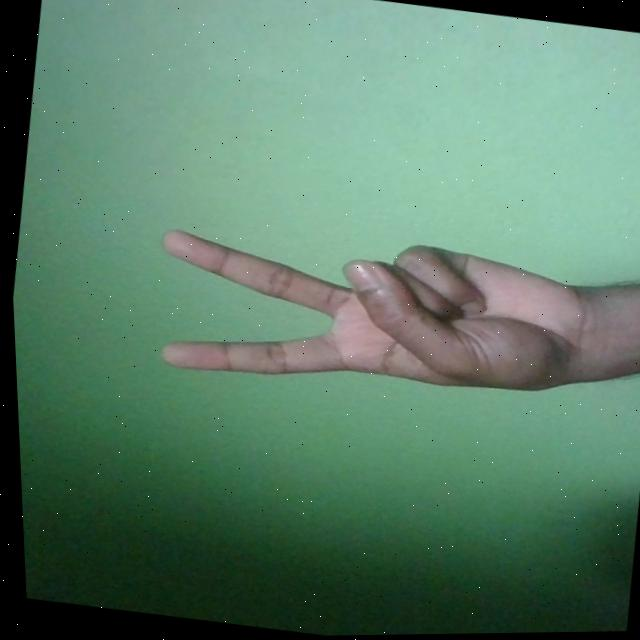Peace: (139, 208, 608, 425)
